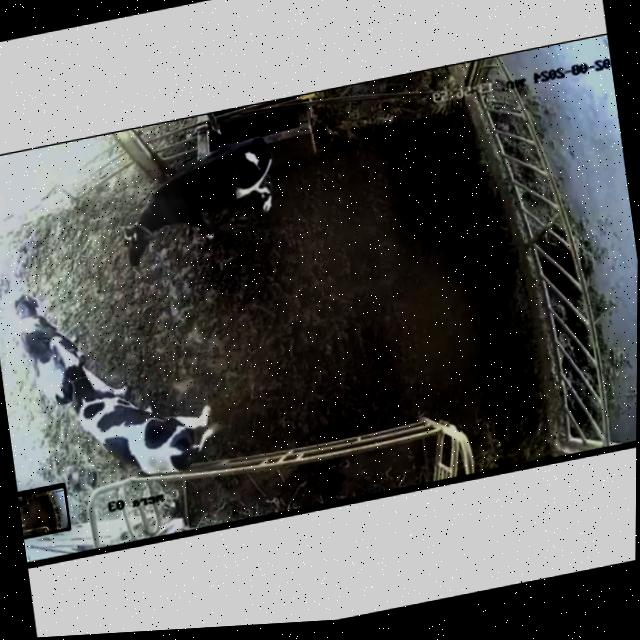propping: (35, 309, 109, 423)
